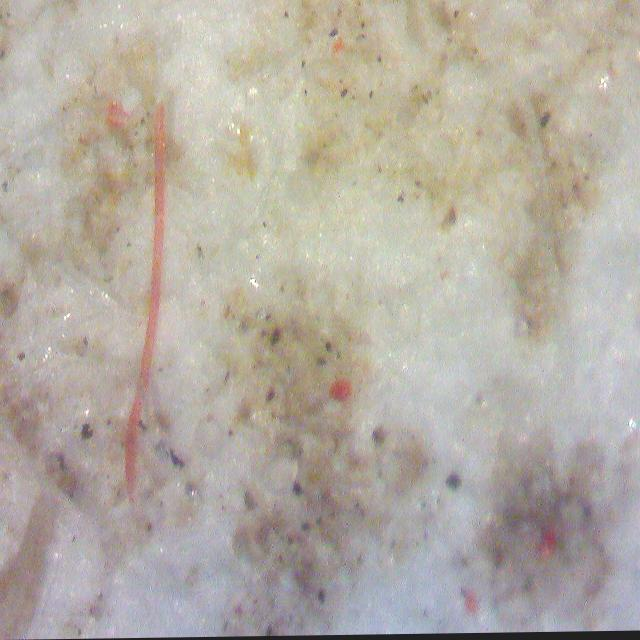microplastic: (110, 99, 184, 506)
